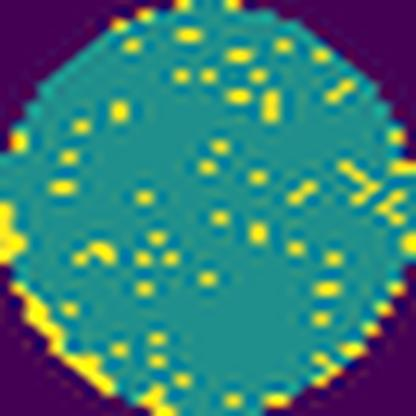Edge-Loc: (11, 285, 122, 397), (0, 205, 28, 274)
